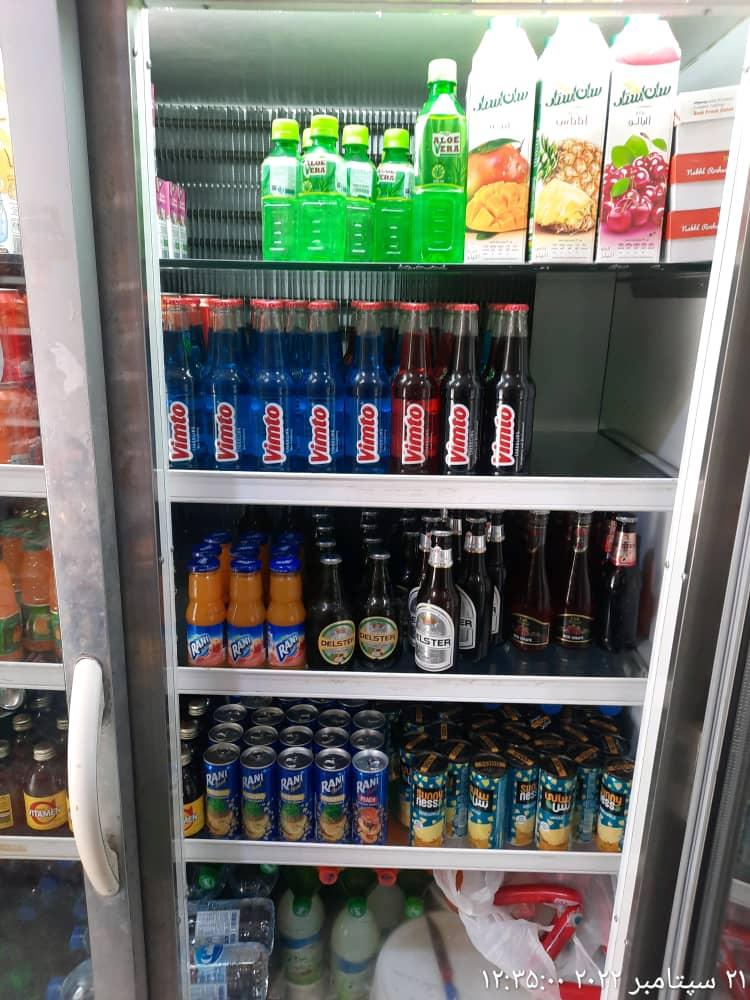Peach: (353, 775, 392, 845)
Pineapple: (207, 760, 240, 836), (245, 765, 278, 839), (317, 773, 350, 845), (280, 767, 308, 837)
